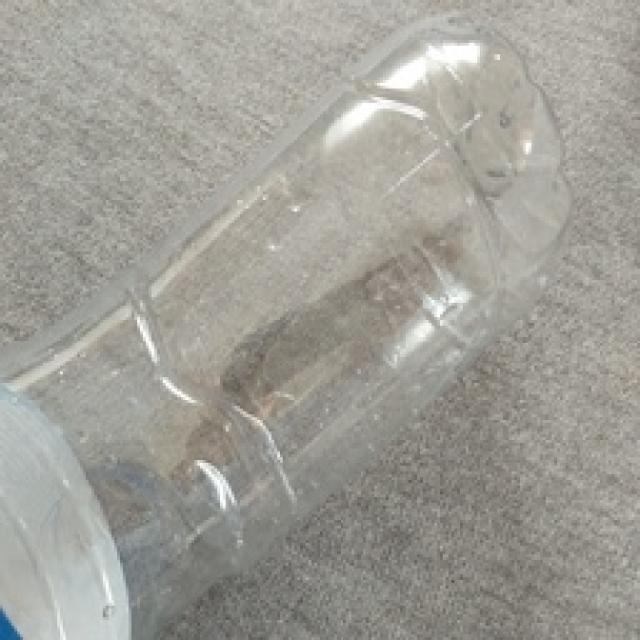Plastic: (0, 19, 568, 639)
